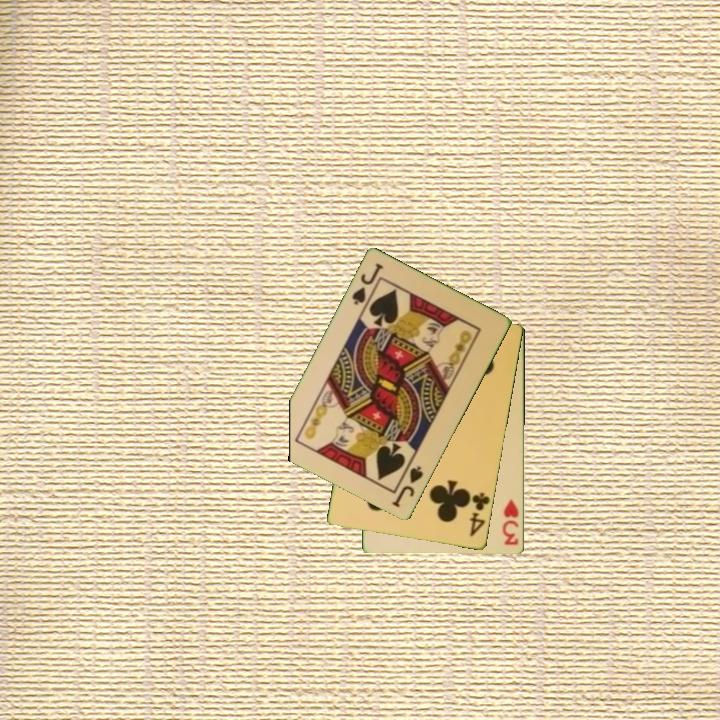3h: (499, 496, 522, 548)
4c: (466, 489, 493, 540)
Js: (348, 260, 387, 312), (389, 462, 427, 511)
